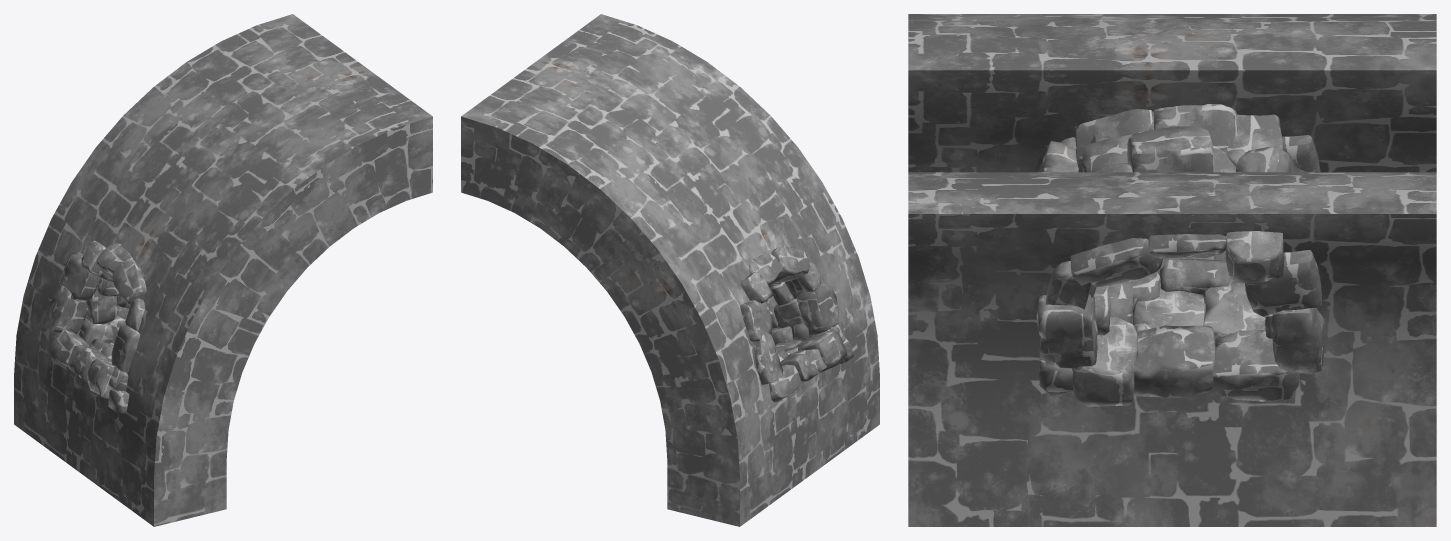
Rendered from Half_Roof_Window.fbx.
3 views of the same model, side by side, from view 1: azimuth 30°, elevation 25°; view 2: azimuth 150°, elevation 25°; view 3: azimuth 270°, elevation 25° (orthographic). The views are drawn at different scales.
Parts seen in each view (by area): view 1: Half_Roof_Window.001, Rocks_08; view 2: Half_Roof_Window.001, Rocks_08; view 3: Half_Roof_Window.001, Rocks_08.
Part boxes in pixels (x1,y1,x2,y2): Half_Roof_Window.001: (14,14,432,526); Rocks_08: (43,240,146,413); Half_Roof_Window.001: (461,14,879,526); Rocks_08: (740,245,853,402); Half_Roof_Window.001: (908,14,1436,526); Rocks_08: (1032,104,1326,406).
Size of the model in its own units: 5.98 by 6.75 by 5.
